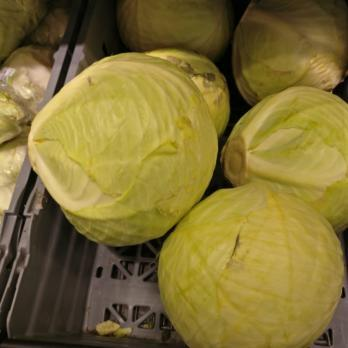Cabbage: (31, 49, 218, 244), (153, 179, 348, 348), (224, 84, 348, 228), (232, 0, 348, 89), (109, 0, 232, 54)
